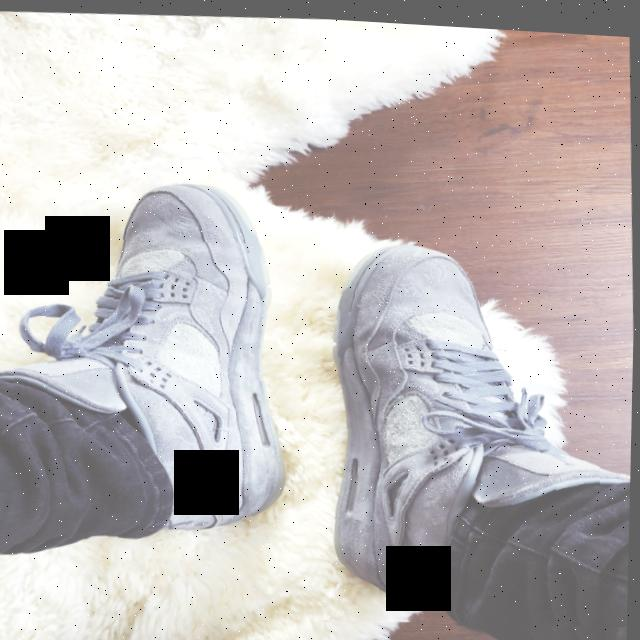shoe: (293, 208, 637, 630), (3, 156, 327, 551)
